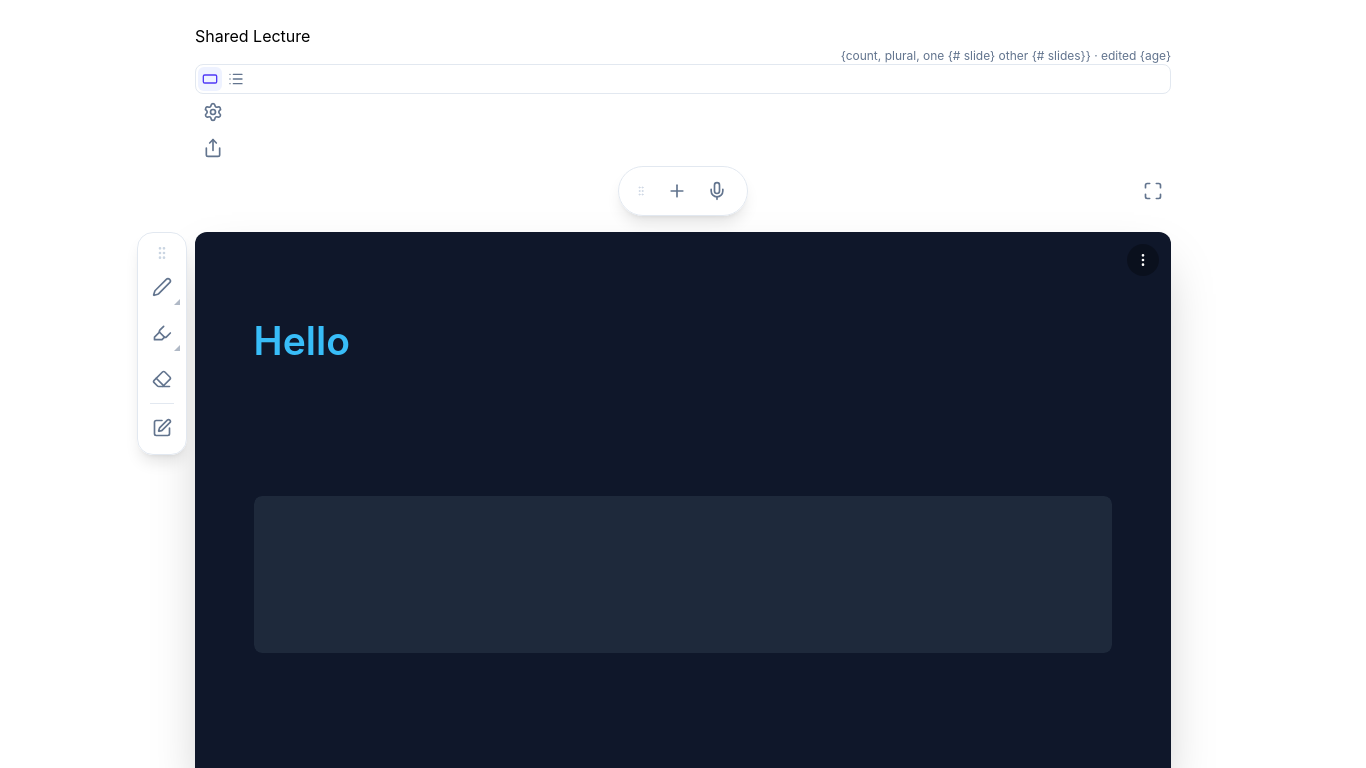
Scenario: DeckViewerPage add slide › lets the owner append a slide and navigates to it
Expected: the button "Shared Lecture" is shown, x1=195 y1=24 x2=310 y2=48
Click the button named "Add slide".
click(677, 191)  # box x1=659 y1=173 x2=695 y2=209
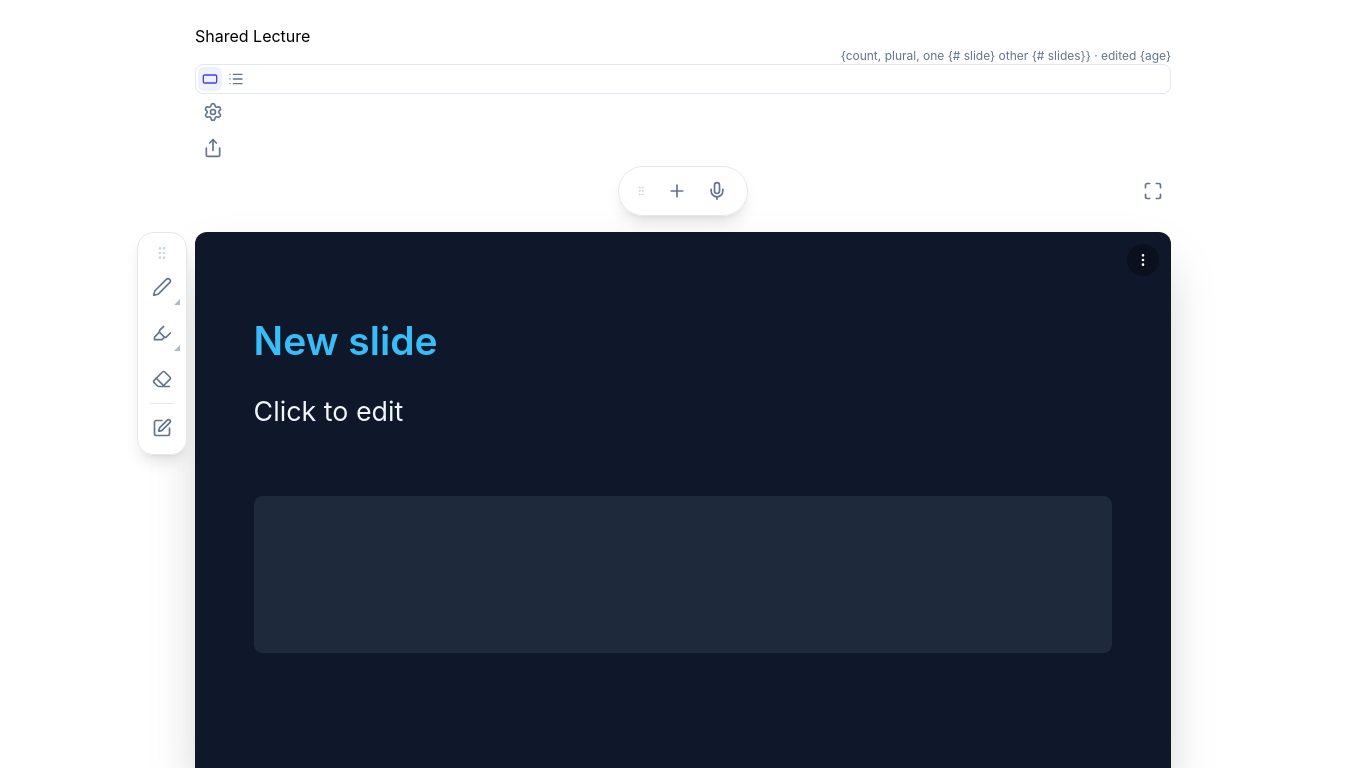
Now the button "New slide" is shown, box x1=250 y1=312 x2=442 y2=370
